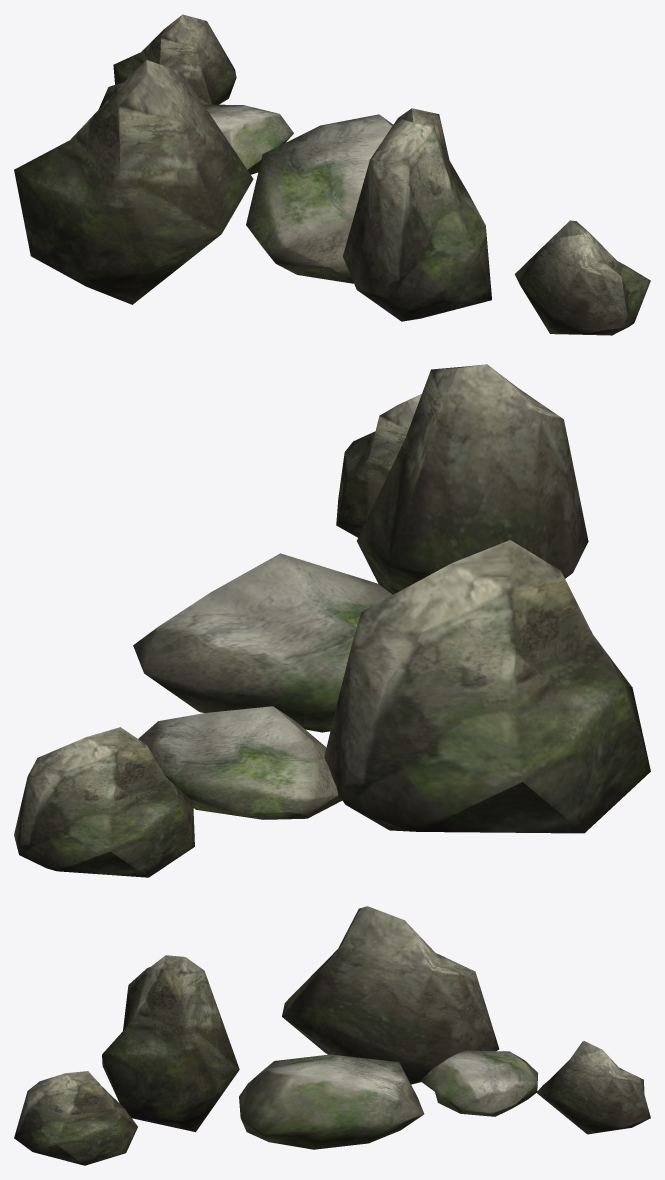
The model's file is zz_dont_use_rocks_LT_group_1F.fbx.
3 views of the same model, one above another, from view 1: azimuth 30°, elevation 25°; view 2: azimuth 150°, elevation 25°; view 3: azimuth 270°, elevation 25° (orthographic). The views are drawn at different scales.
Parts seen in each view (by area): view 1: rock_2, rock_5, rock_1, rock_3, rock_6, rock_4; view 2: rock_2, rock_5, rock_1, rock_6, rock_4, rock_3; view 3: rock_2, rock_5, rock_1, rock_3, rock_6, rock_4.
Boxes of the visible parts, x1,y1,x2,y2 form: rock_2: [14, 60, 253, 304]; rock_5: [343, 108, 491, 321]; rock_1: [246, 114, 392, 283]; rock_3: [514, 220, 650, 335]; rock_6: [113, 14, 236, 104]; rock_4: [204, 104, 293, 174]; rock_2: [324, 540, 650, 833]; rock_5: [357, 364, 588, 594]; rock_1: [133, 553, 392, 732]; rock_6: [14, 727, 194, 877]; rock_4: [138, 706, 342, 819]; rock_3: [336, 394, 421, 537]; rock_2: [282, 906, 499, 1084]; rock_5: [102, 955, 239, 1132]; rock_1: [239, 1054, 424, 1149]; rock_3: [14, 1071, 137, 1165]; rock_6: [536, 1041, 650, 1134]; rock_4: [420, 1050, 538, 1116].
Bounding box in the file's own units: 689 × 353 × 1173.
Materials: 1 (1 with a texture image).
